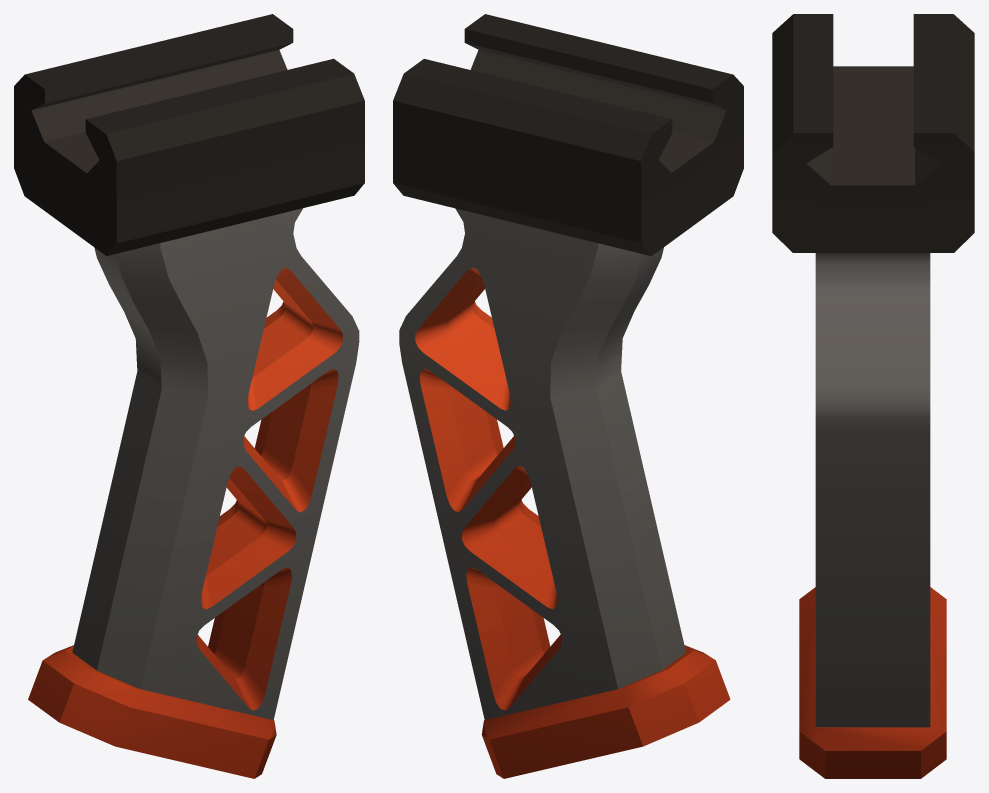
The model's file is Foregrip_Vertical_02.fbx.
The picture shows the model from 3 angles, left to right: view 1: azimuth 30°, elevation 25°; view 2: azimuth 150°, elevation 25°; view 3: azimuth 270°, elevation 25°; orthographic projection.
Visible parts, largest first — view 1: Foregrip_Vertical_02; view 2: Foregrip_Vertical_02; view 3: Foregrip_Vertical_02.
Part boxes in pixels (x1,y1,x2,y2): Foregrip_Vertical_02: [14, 14, 364, 778]; Foregrip_Vertical_02: [393, 14, 743, 778]; Foregrip_Vertical_02: [772, 14, 974, 778].
Size of the model in its own units: 6.3 by 14.59 by 3.91.
